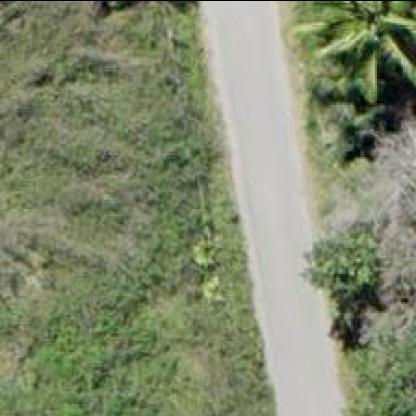coconut tree: (291, 1, 415, 104)
